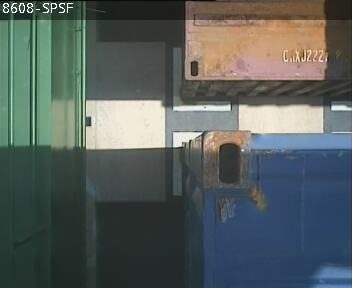groundmarker_1: (172, 47, 231, 196)
